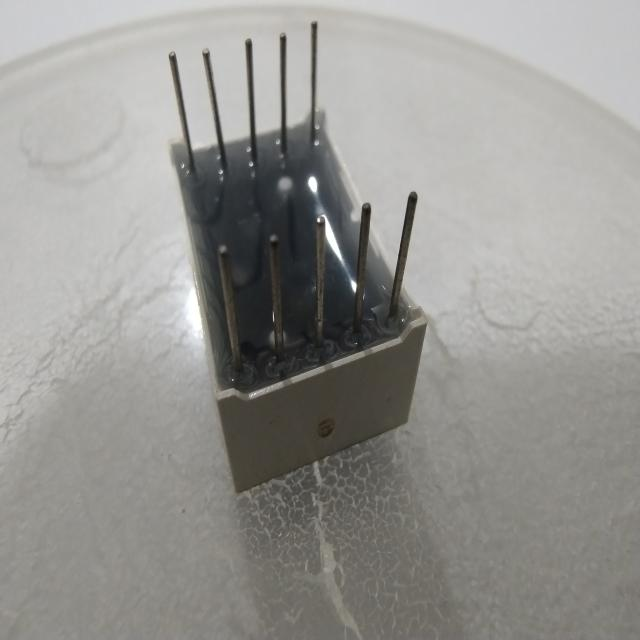7_segments: (151, 8, 435, 500)
